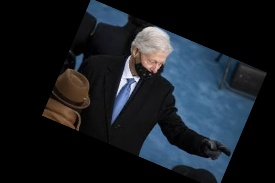mask_weared_incorrect: (133, 40, 170, 81)
